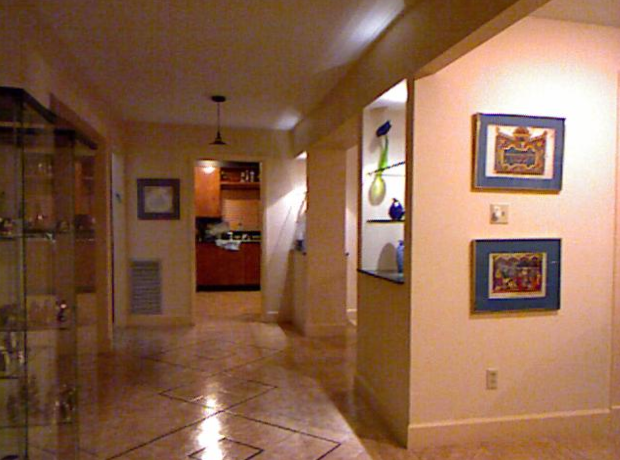openedDoor: (186, 153, 267, 323)
